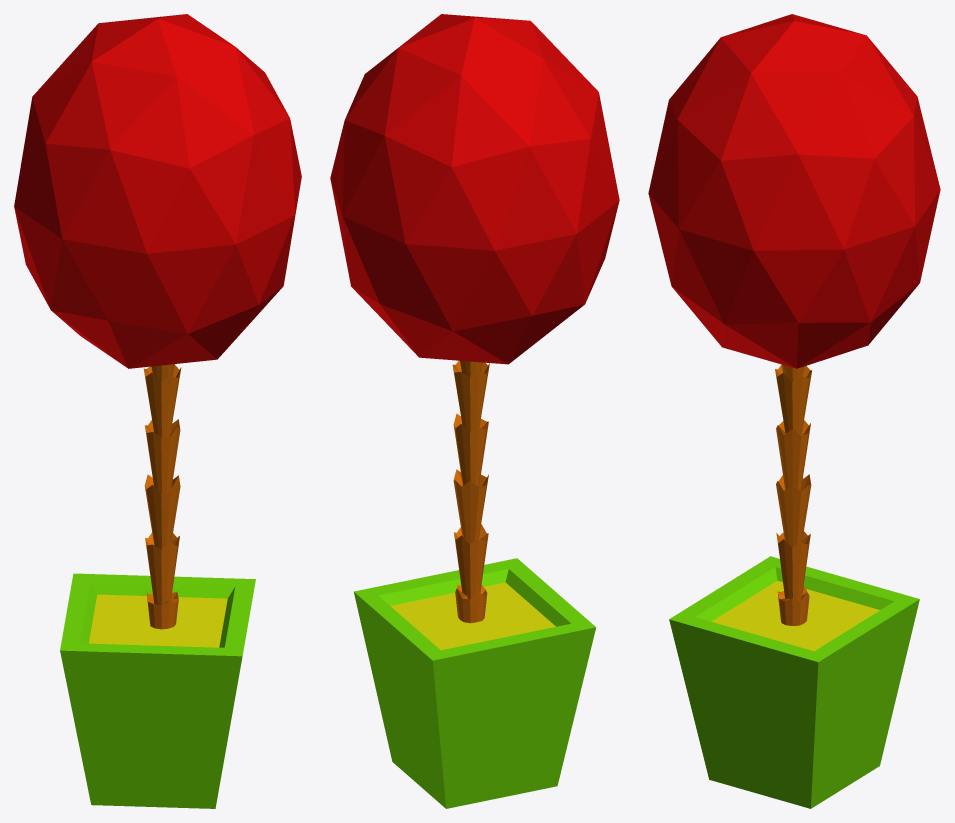
The model's file is whole_plant_uv.fbx.
3 renders of one model, left to right at view 1: azimuth 30°, elevation 25°; view 2: azimuth 150°, elevation 25°; view 3: azimuth 270°, elevation 25°, orthographic.
Parts seen in each view (by area): view 1: plant; view 2: plant; view 3: plant.
Part boxes in pixels (x1,y1,x2,y2): plant: (14, 14, 301, 808); plant: (330, 14, 619, 808); plant: (648, 14, 940, 808).
Size of the model in its own units: 311 by 919 by 324.
